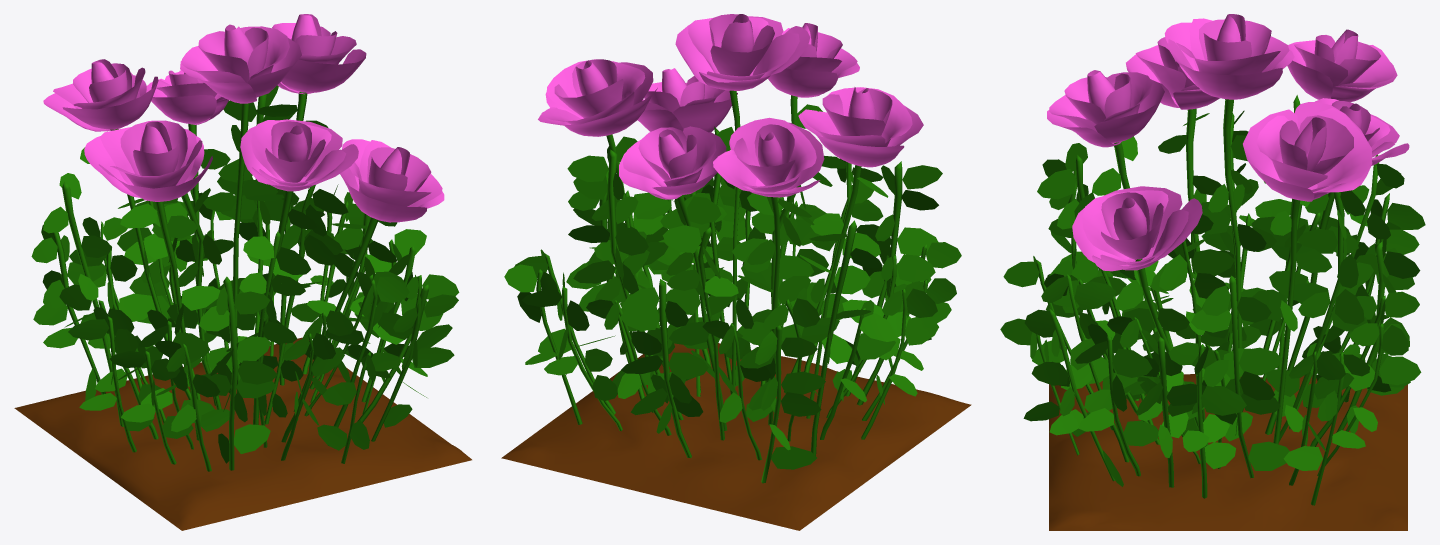
File: pink-rose.glb
3 views of the same model, side by side, from view 1: azimuth 30°, elevation 25°; view 2: azimuth 150°, elevation 25°; view 3: azimuth 270°, elevation 25° (orthographic). The views are drawn at different scales.
Visible parts, largest first — view 1: 4_nft_bloom; view 2: 4_nft_bloom; view 3: 4_nft_bloom.
Boxes of the visible parts, x1=… form: 4_nft_bloom: x1=14, y1=14, x2=471, y2=530; 4_nft_bloom: x1=501, y1=14, x2=971, y2=530; 4_nft_bloom: x1=1000, y1=14, x2=1425, y2=530.
Bounding box in the file's own units: 0.8619 × 0.9393 × 0.8292.
